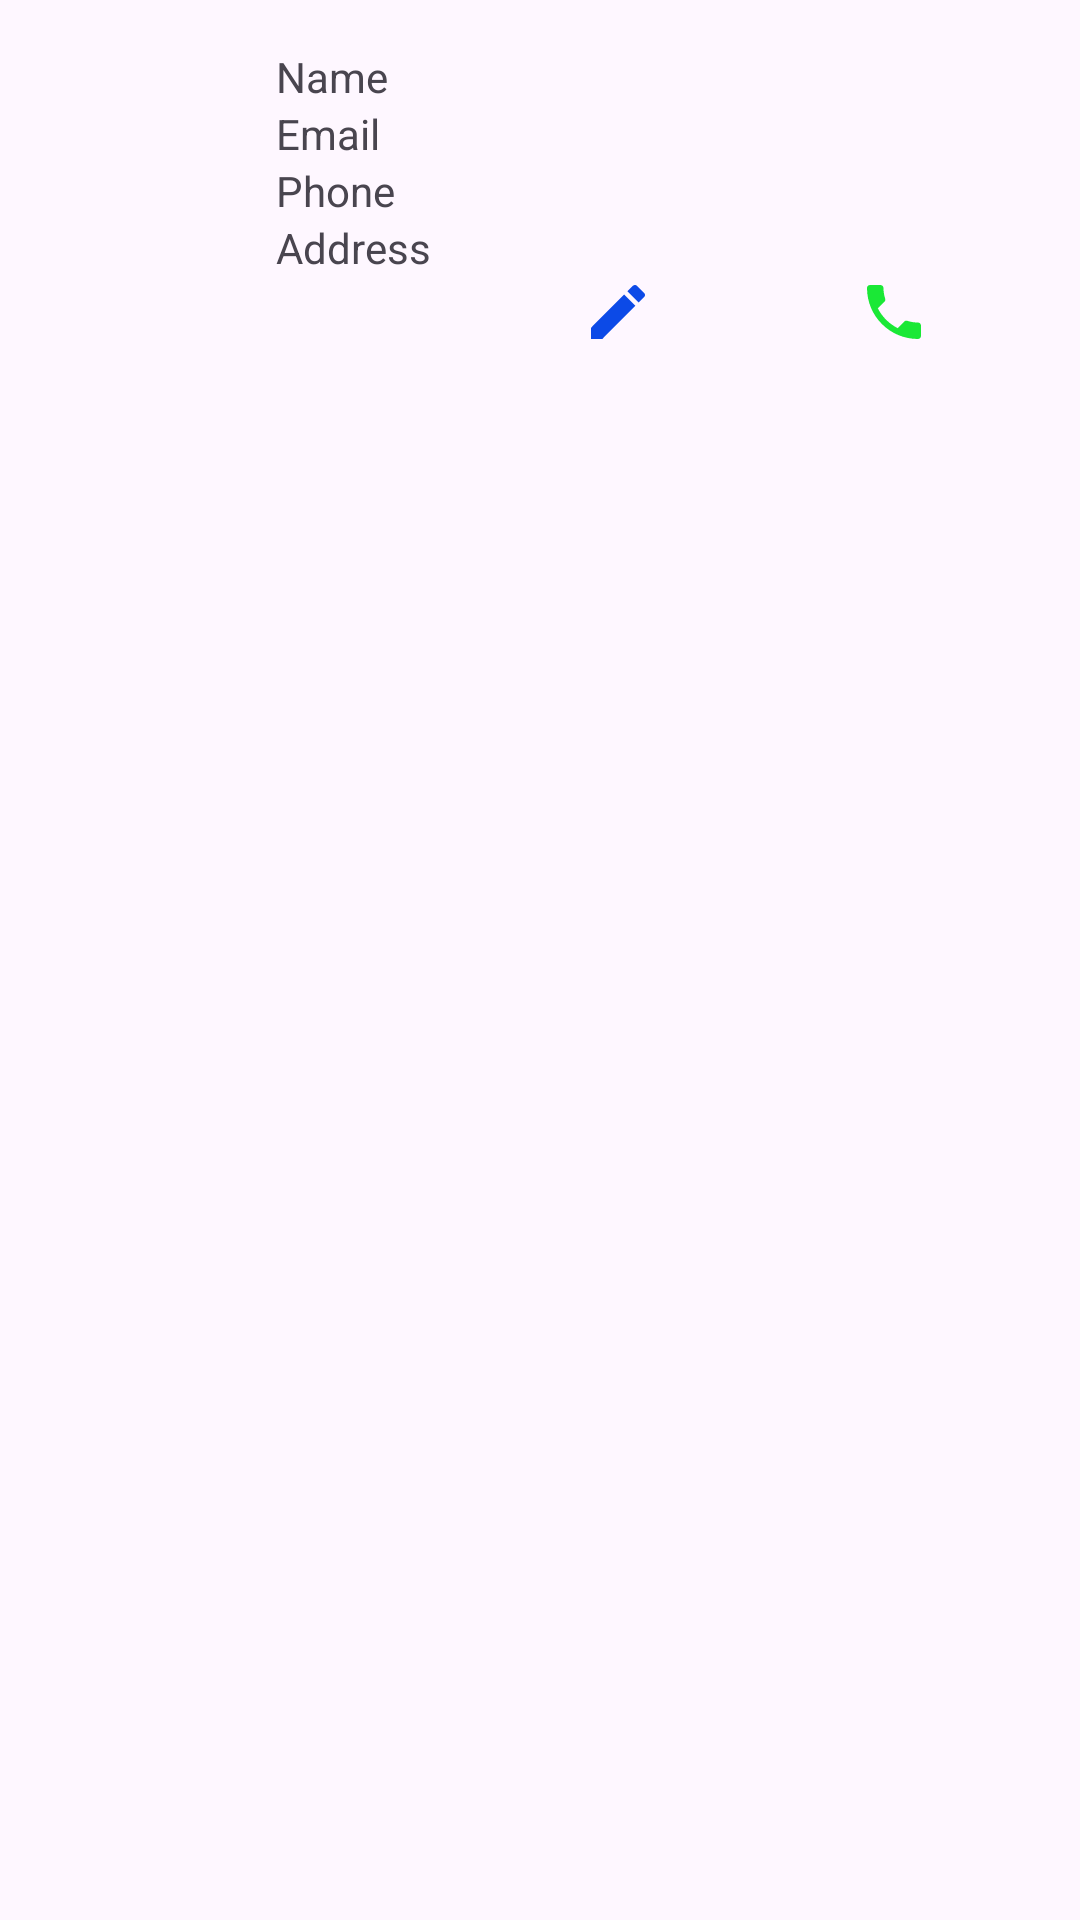

Icons on this 1080w x 1920h Android screen, each with its box as [x1=x1, y1=y1, x2=x2, y2=y2]:
edit: [x1=591, y1=285, x2=645, y2=339]
phone: [x1=867, y1=285, x2=921, y2=339]
